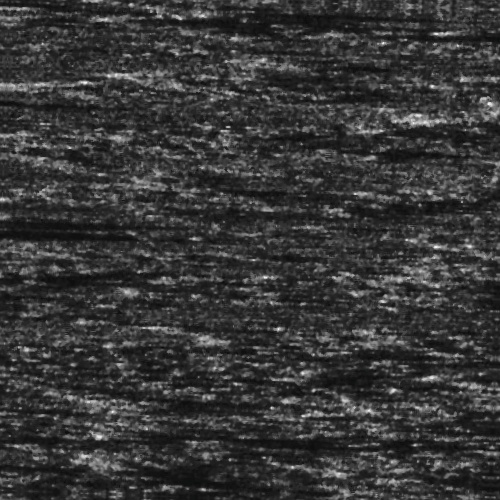object: (53, 17, 188, 28), (181, 8, 234, 17), (436, 14, 467, 29), (105, 432, 136, 441), (485, 41, 500, 48), (480, 310, 500, 315)
shadow: (121, 432, 430, 441), (120, 17, 330, 28), (208, 8, 373, 17), (0, 105, 104, 116), (0, 237, 108, 246), (0, 4, 87, 15), (451, 14, 500, 29)
